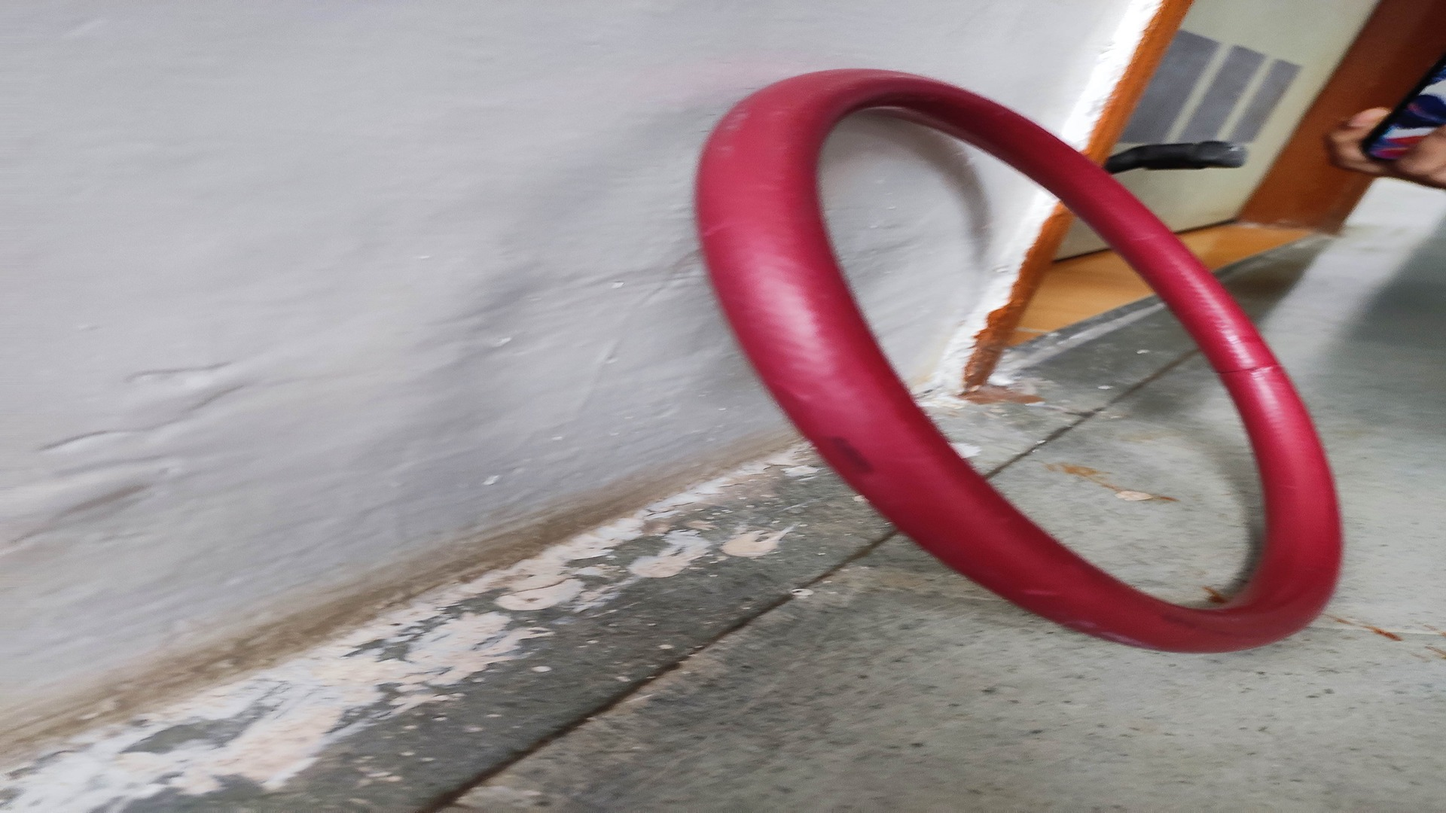Red ring: (717, 71, 1359, 644)
